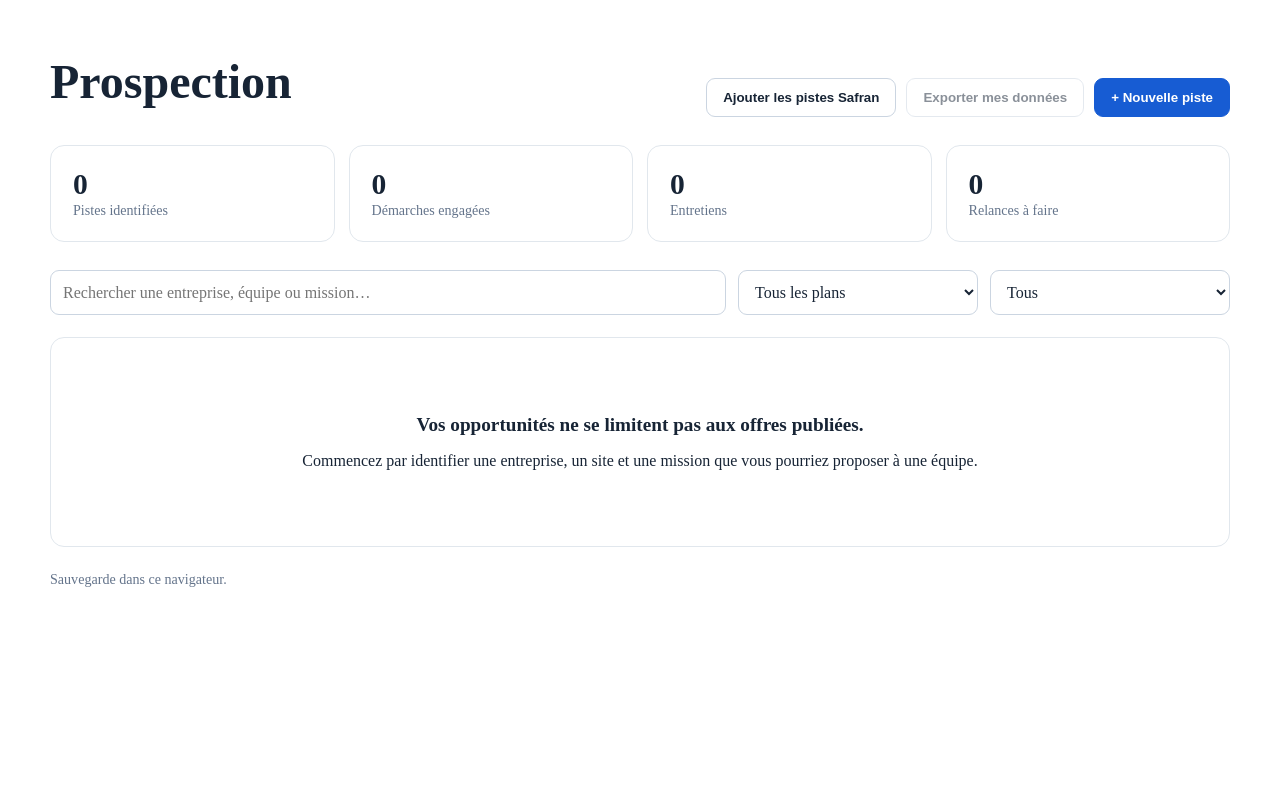
it: ProspectionPage › adds a targeted spontaneous opportunity and persists it
This screenshot has width=1280, height=800.
Click the button "+ Nouvelle piste" at (1162, 98), box 1094,78 -> 1230,117
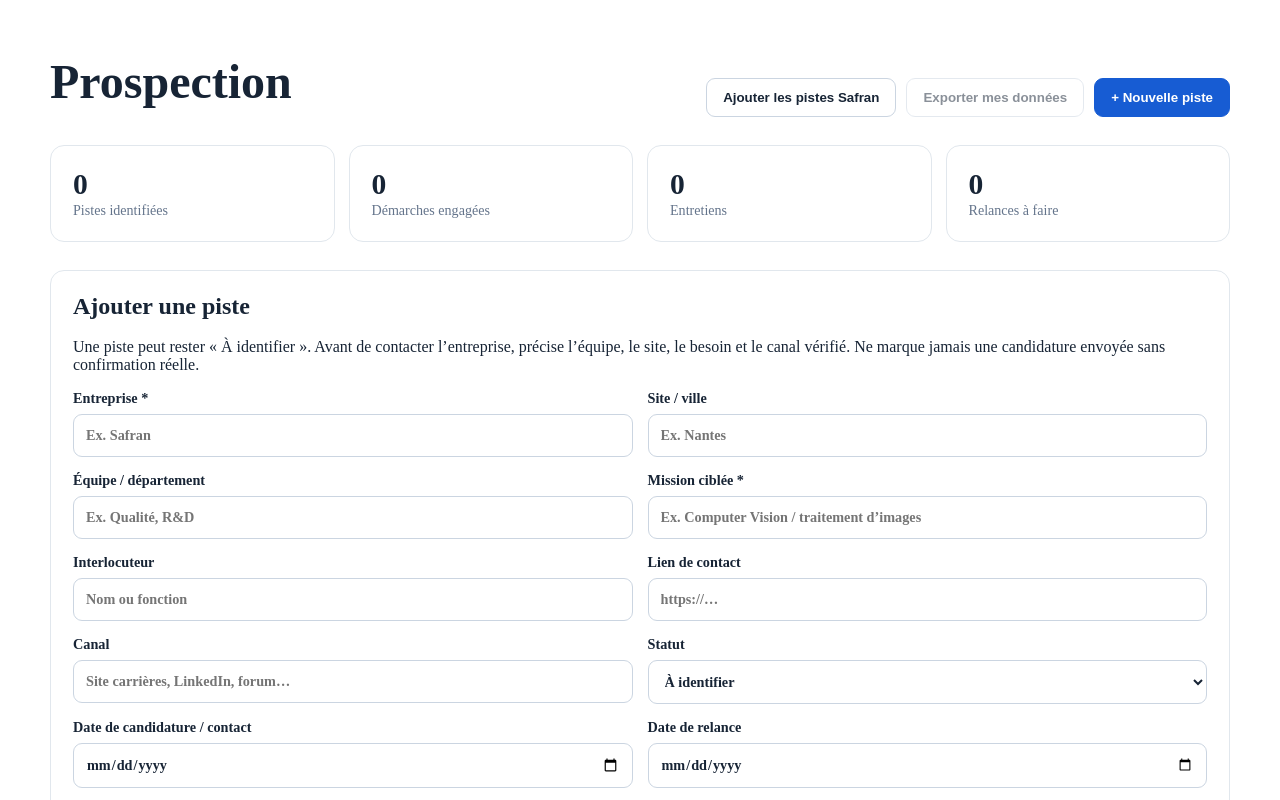
Type "Safran" into the field with placeholder "Ex. Safran" at (353, 436), box 73,414 -> 632,457
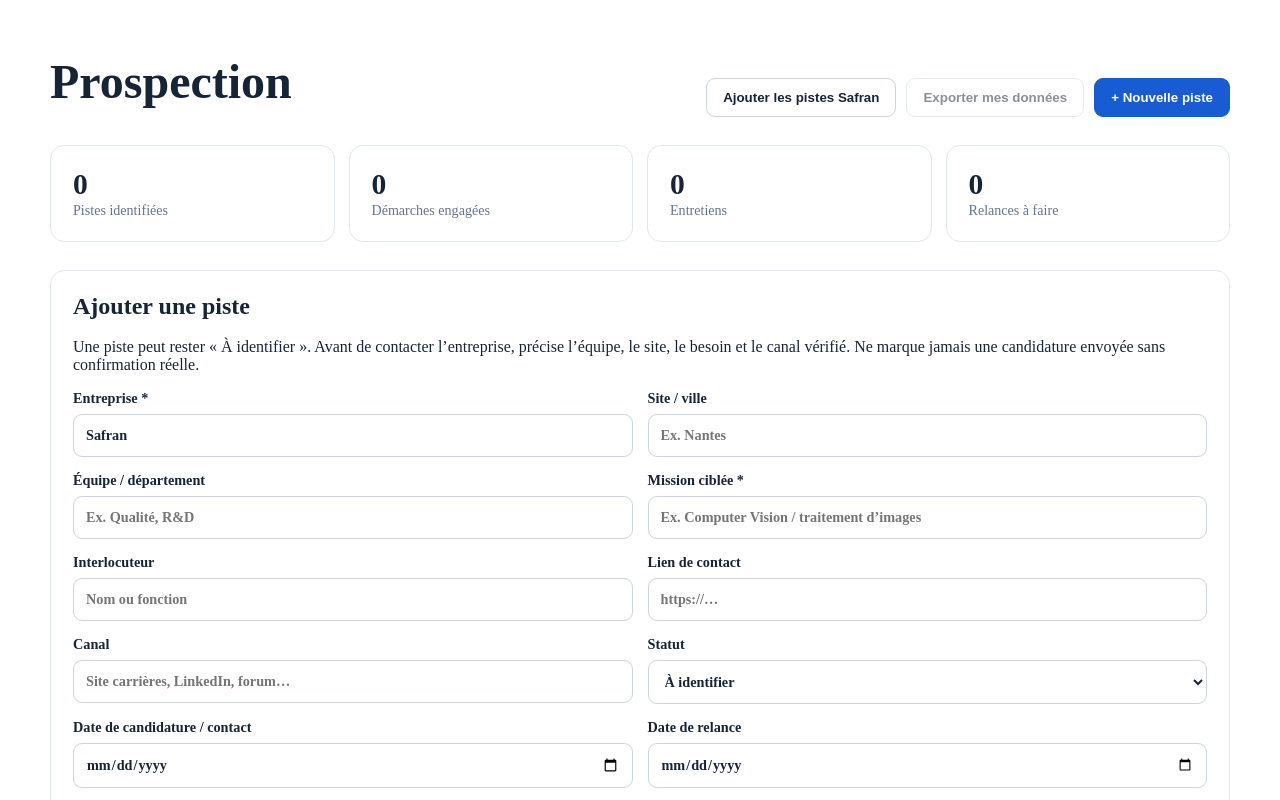
Type "Vision industrielle" into the field with placeholder "Ex. Computer Vision / traitement d’images" at (927, 518), box 648,496 -> 1207,539
(page scrolled)
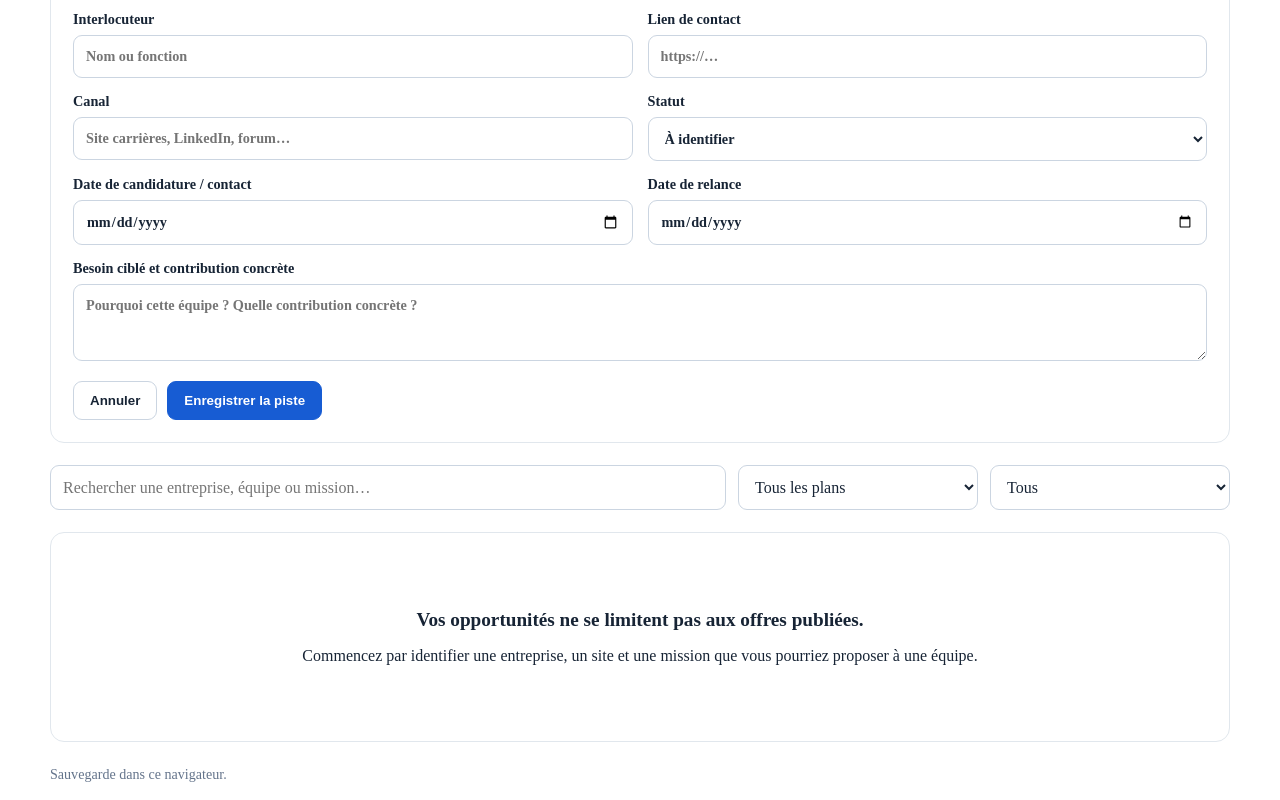
Click the button "Enregistrer la piste" at (245, 400), box 167,381 -> 322,420
(page scrolled)
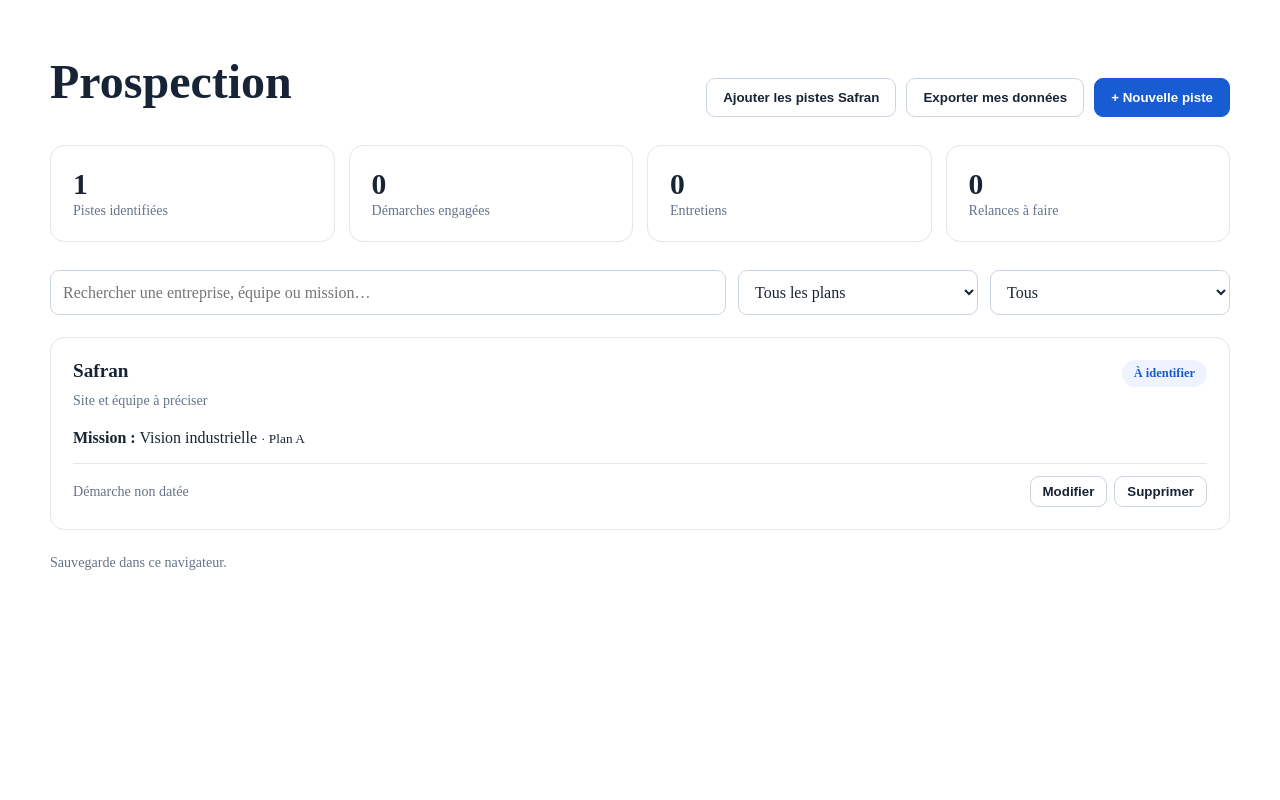
Expected: the heading "Safran" is shown, 73,360 -> 128,381
Expected: the text "Mission : Vision industrielle · Plan A" is shown, 73,429 -> 305,446
